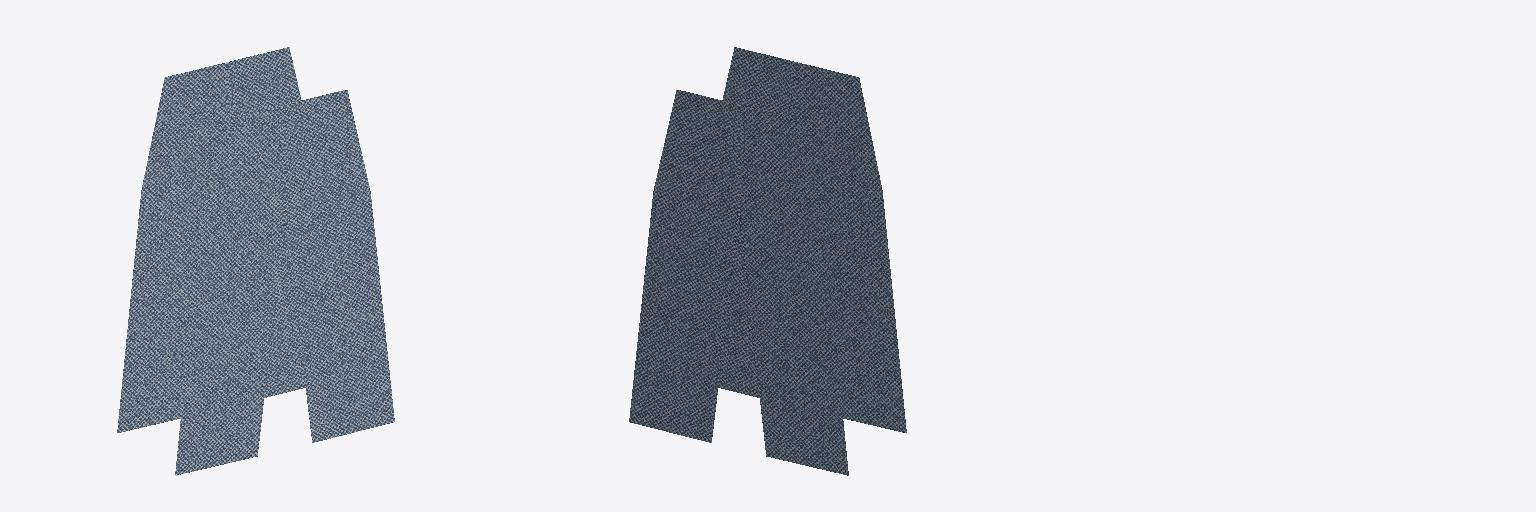
3 renders of one model, left to right at view 1: azimuth 30°, elevation 25°; view 2: azimuth 150°, elevation 25°; view 3: azimuth 270°, elevation 25°, orthographic.
Visible parts, largest first — view 1: Plane.005; view 2: Plane.005; view 3: none.
Part boxes in pixels (bbox=[...]): Plane.005: bbox=[117, 47, 394, 475]; Plane.005: bbox=[629, 47, 906, 475].
Bounding box in the file's own units: 5.59 × 8.38 × 2.55.
Materials: 1 (1 with a texture image).